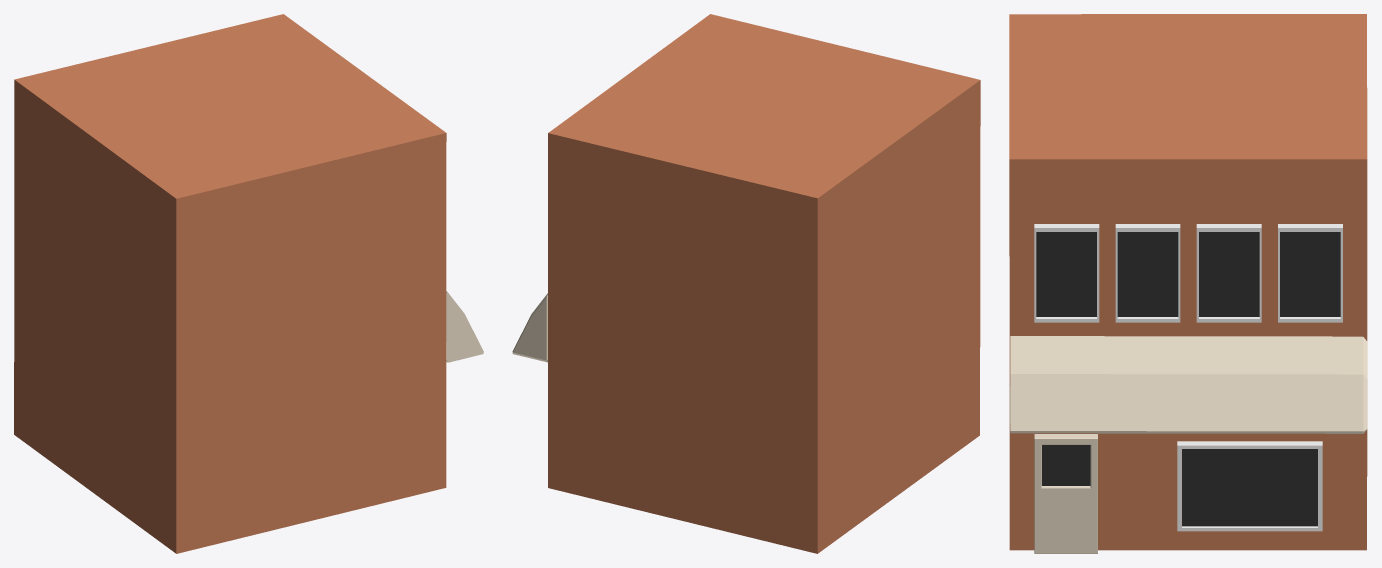
3 views of the same model, side by side, from view 1: azimuth 30°, elevation 25°; view 2: azimuth 150°, elevation 25°; view 3: azimuth 270°, elevation 25° (orthographic). The views are drawn at different scales.
Visible parts, largest first — view 1: BusinessBuildings.042; view 2: BusinessBuildings.042; view 3: BusinessBuildings.042.
Part boxes in pixels (x1=…): BusinessBuildings.042: x1=14, y1=14, x2=483, y2=553; BusinessBuildings.042: x1=512, y1=14, x2=980, y2=553; BusinessBuildings.042: x1=1009, y1=14, x2=1367, y2=553.
Size of the model in its own units: 90.69 by 100 by 82.97.
